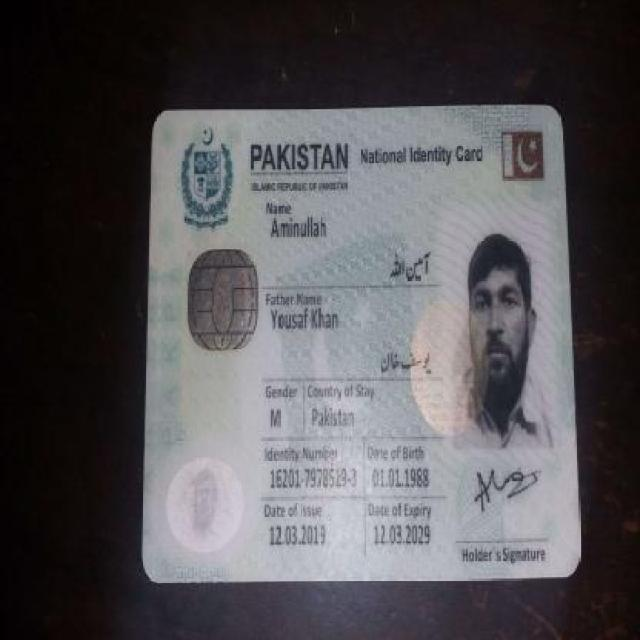Front: (124, 102, 582, 580)
